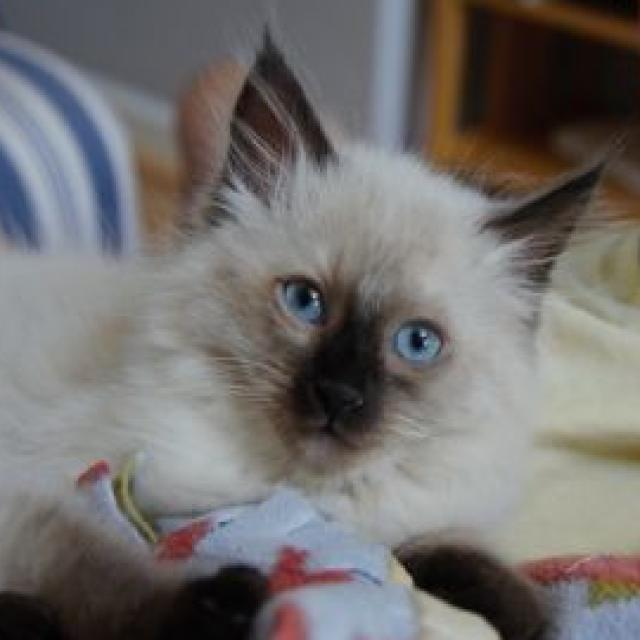Ragdoll: (0, 13, 626, 640)
